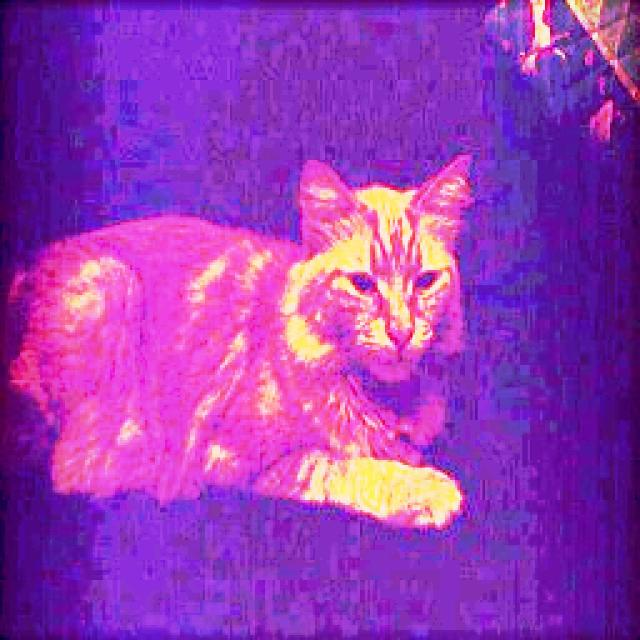cat: (11, 160, 478, 538)
